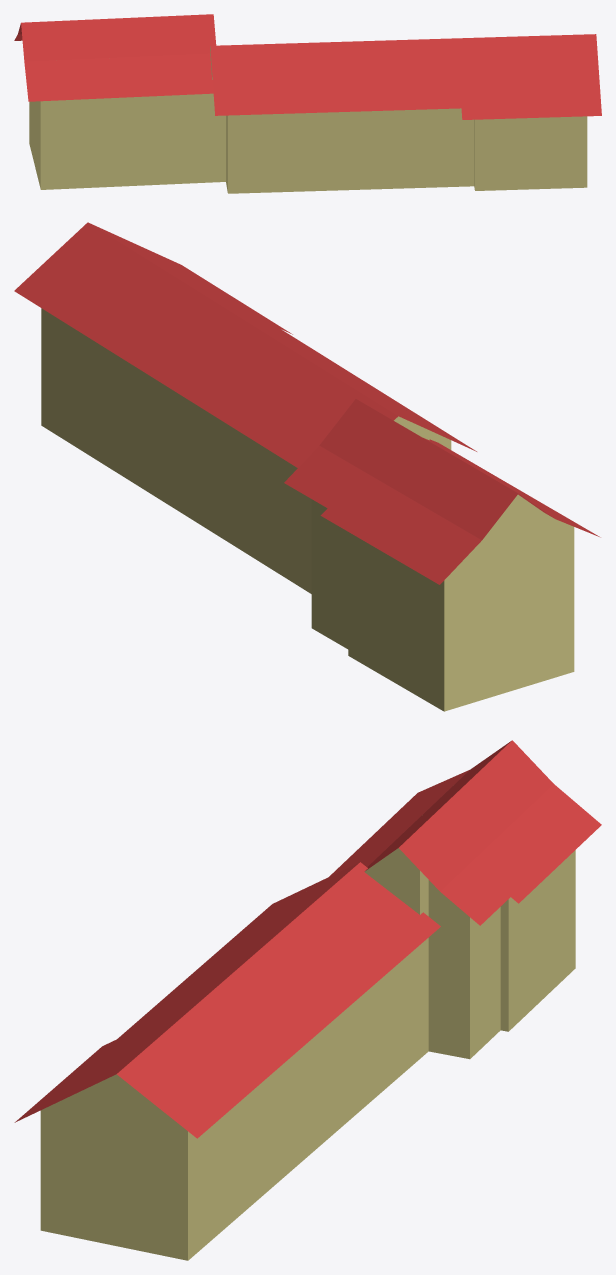
3 views of the same model, one above another, from view 1: azimuth 30°, elevation 25°; view 2: azimuth 150°, elevation 25°; view 3: azimuth 270°, elevation 25° (orthographic). The views are drawn at different scales.
Bounding box in the file's own units: 61.07 × 44.27 × 17.21.
